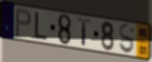8: (57, 13, 72, 46), (100, 21, 115, 53)
L: (34, 11, 49, 42)
P: (15, 8, 33, 38)
S: (118, 23, 136, 56)
T: (77, 18, 92, 48)
